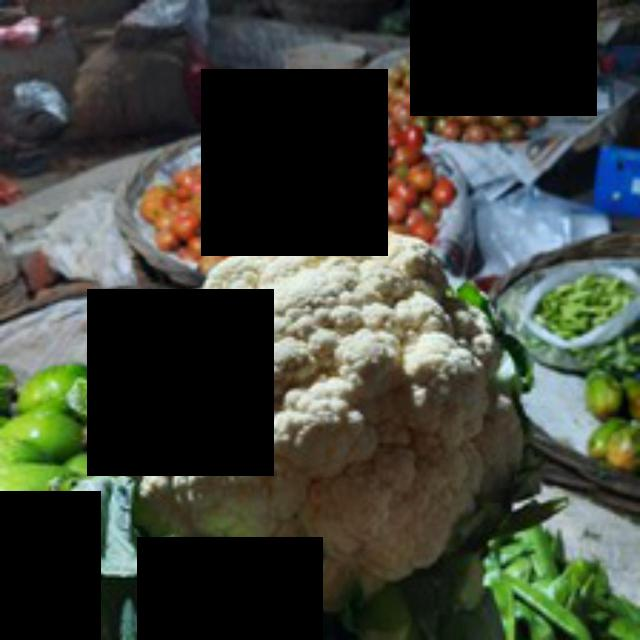cauliflower: (82, 216, 531, 614)
